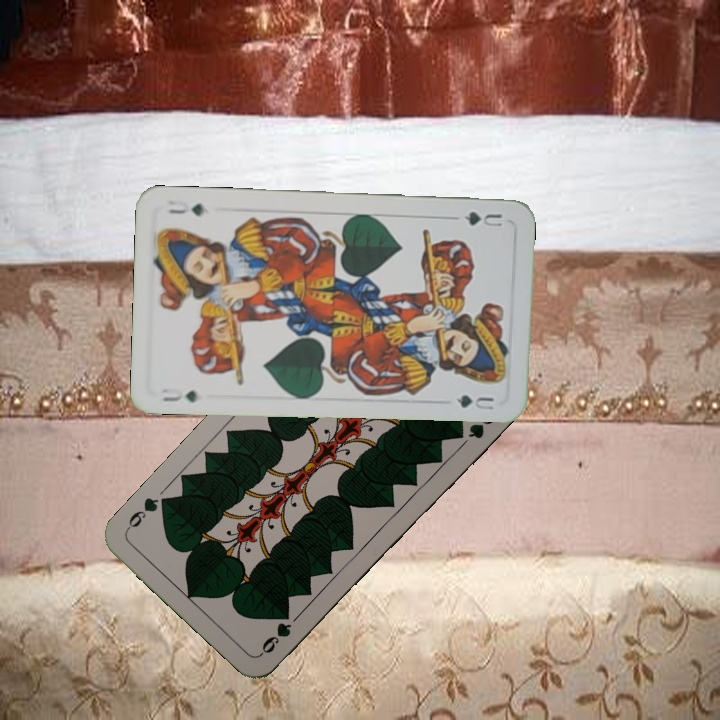G9: (257, 610, 302, 657)
GU: (459, 208, 505, 229), (159, 386, 200, 405)
